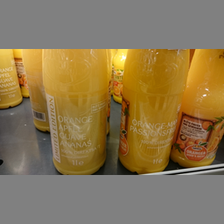juice: (118, 50, 190, 174), (40, 49, 109, 174), (170, 50, 224, 169)
